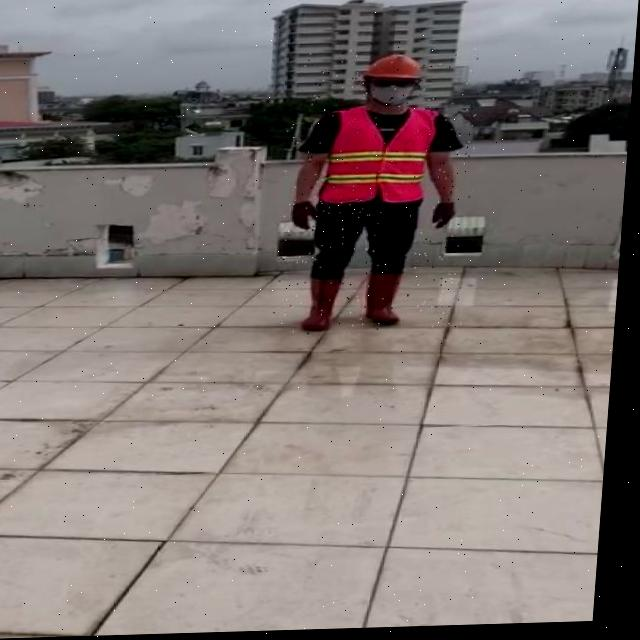Gloves: (295, 202, 322, 232), (436, 204, 460, 231)
Helmet: (362, 56, 426, 108)
Safety-Boot: (308, 277, 348, 333), (371, 271, 408, 326)
Safety-Vest: (324, 105, 443, 208)
